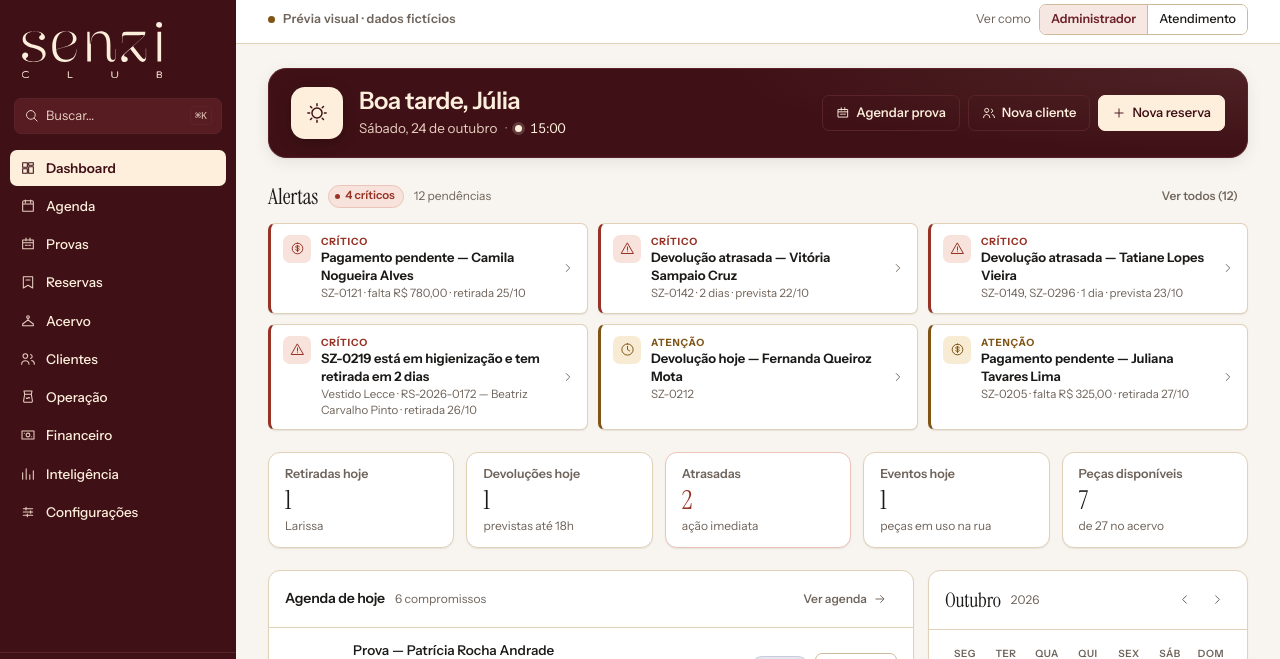
Scenario: Dashboard — agenda de hoje e mini calendário › marca hoje e os dias com compromisso; as setas trocam o mês
Click the button named "Próximo mês" at (1218, 600), box [1204,586,1231,613]
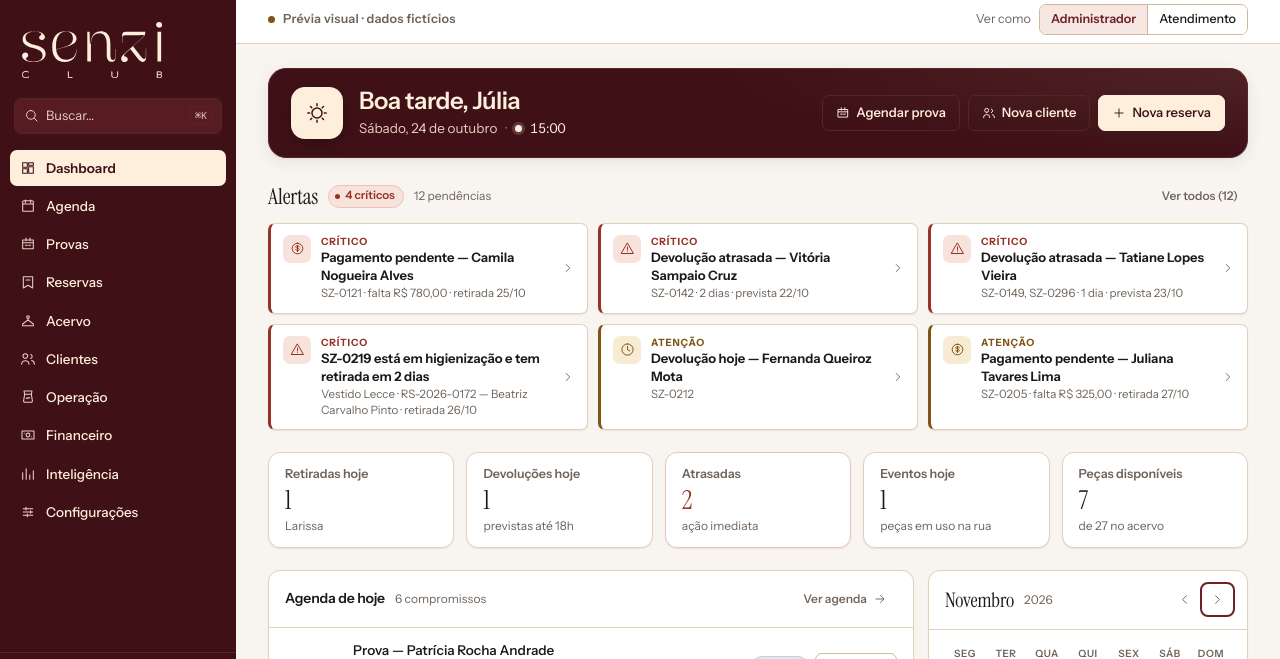
Click the button named "Mês anterior" at (1184, 600), box [1171,586,1198,613]
(page scrolled)
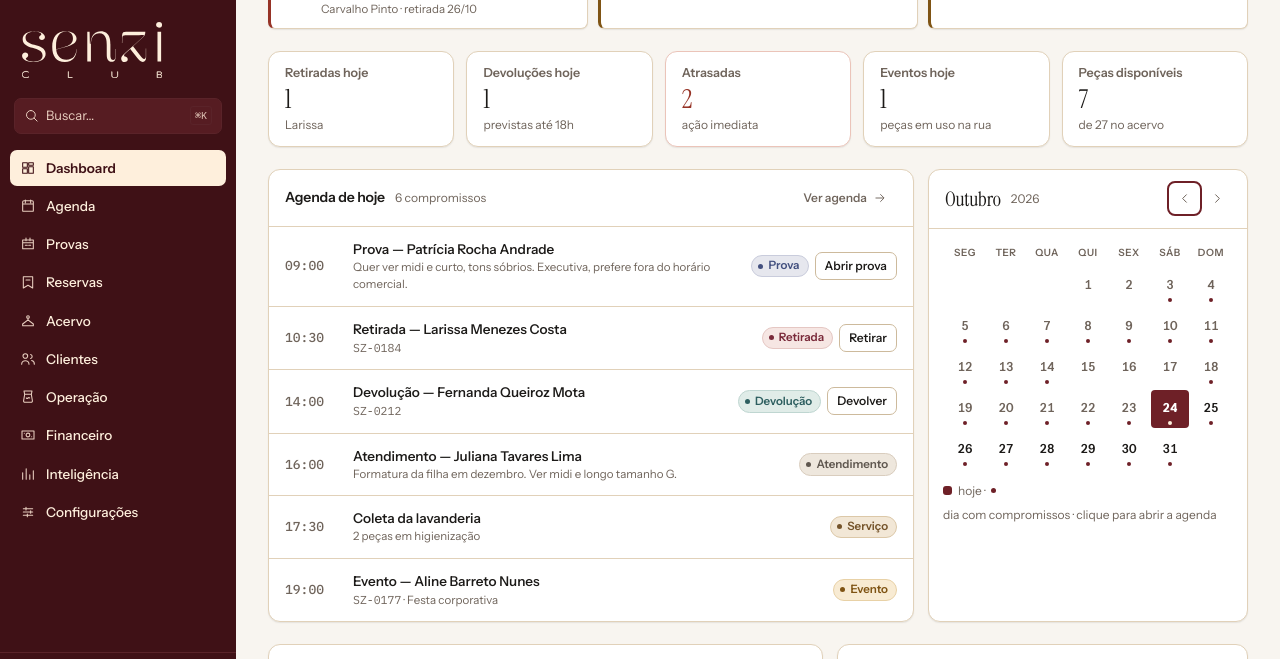
Now the table named "Calendário de Outubro de 2026" is shown, box [943,241,1233,472]
